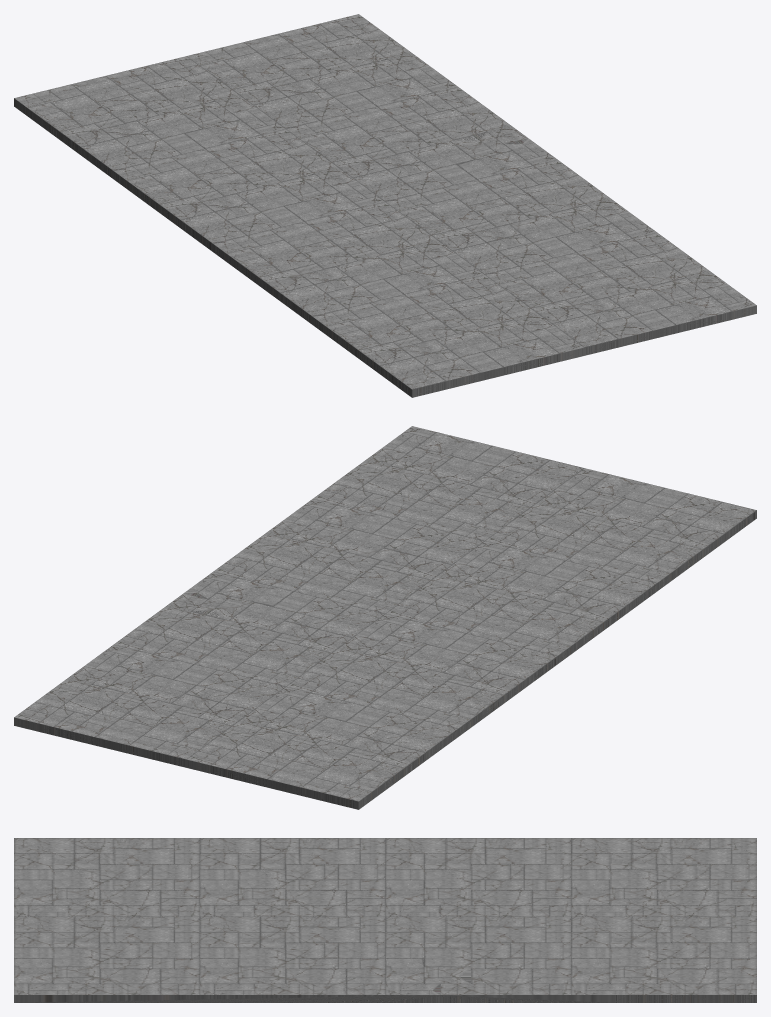
Rendered from newPlanAli.fbx.
3 views of the same model, one above another, from view 1: azimuth 30°, elevation 25°; view 2: azimuth 150°, elevation 25°; view 3: azimuth 270°, elevation 25° (orthographic). The views are drawn at different scales.
Visible parts, largest first — view 1: polySurface26_4; view 2: polySurface26_4; view 3: polySurface26_4.
Part boxes in pixels (bbox=[...]): polySurface26_4: bbox=[14, 14, 756, 397]; polySurface26_4: bbox=[14, 426, 756, 809]; polySurface26_4: bbox=[14, 838, 756, 1002].
Size of the model in its own units: 929 by 21.3 by 1858.
